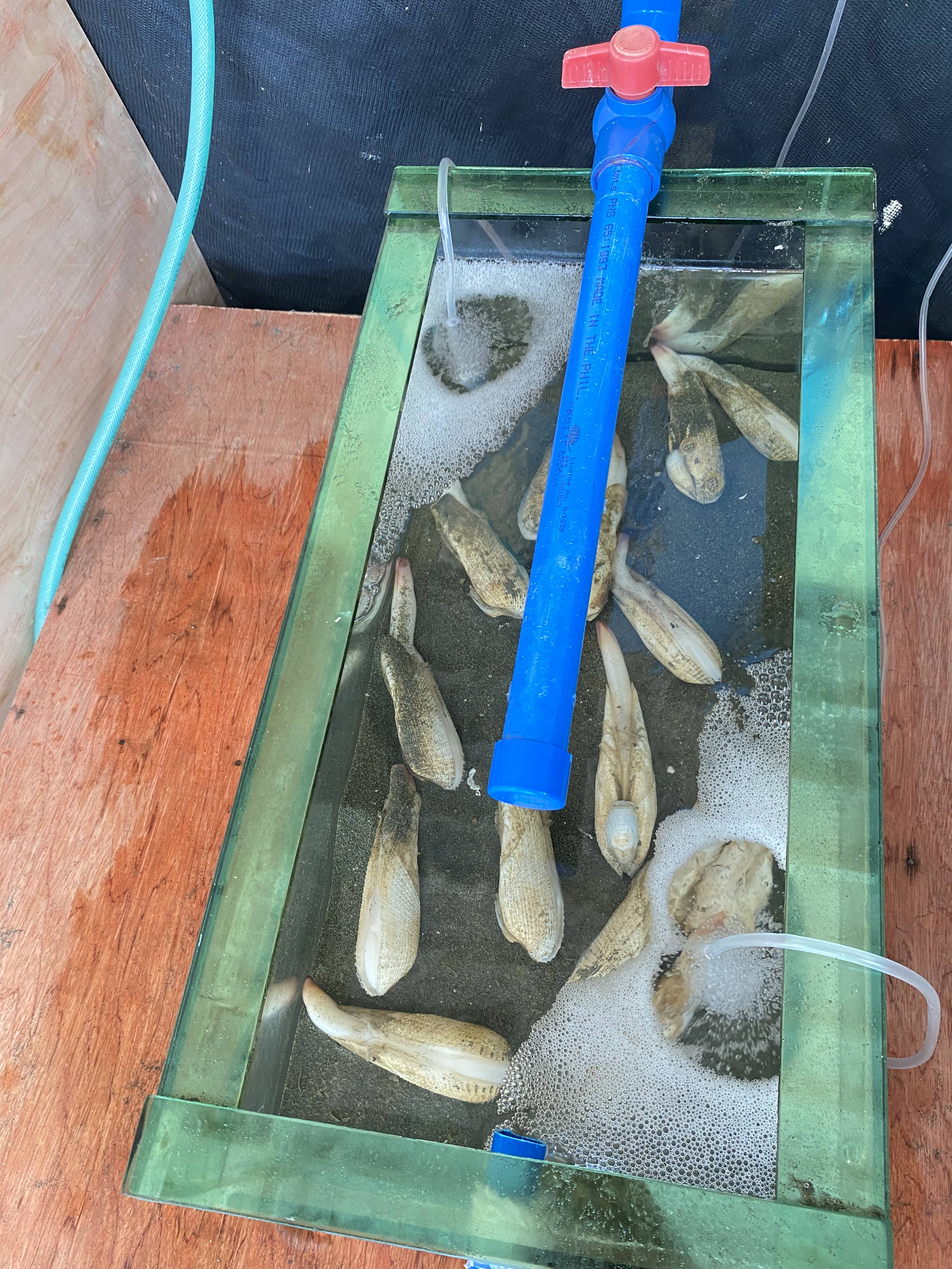Healthy: (303, 978, 510, 1103), (380, 559, 463, 789), (613, 534, 722, 684), (597, 622, 631, 737), (621, 738, 630, 784)
